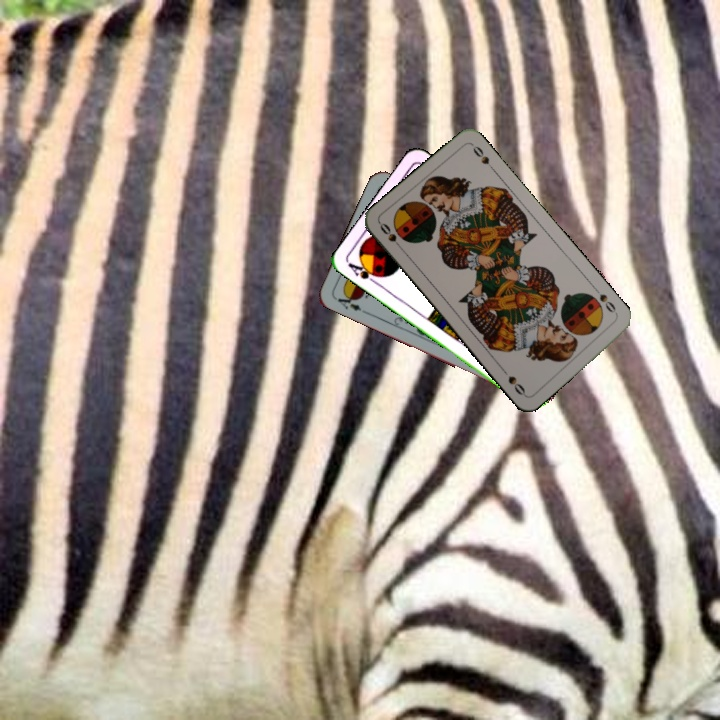EA: (333, 289, 369, 316)
SA: (344, 257, 384, 287)
SO: (375, 219, 406, 253), (591, 284, 620, 319)
